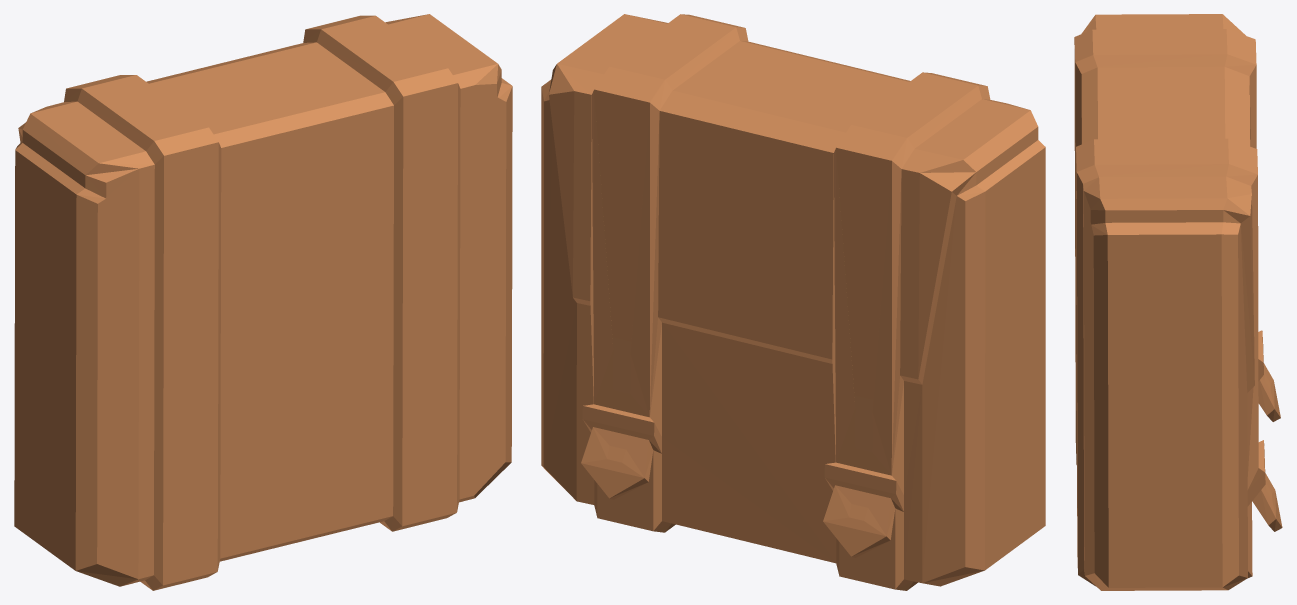
File: SM_Item_Bag_Attachment_02.glb
3 renders of one model, left to right at view 1: azimuth 30°, elevation 25°; view 2: azimuth 150°, elevation 25°; view 3: azimuth 270°, elevation 25°, orthographic. The views are drawn at different scales.
Parts seen in each view (by area): view 1: SM_Item_Bag_Attachment_02_00; view 2: SM_Item_Bag_Attachment_02_00; view 3: SM_Item_Bag_Attachment_02_00.
Boxes of the visible parts, x1,y1,x2,y2 form: SM_Item_Bag_Attachment_02_00: (14,14,512,590); SM_Item_Bag_Attachment_02_00: (541,14,1045,590); SM_Item_Bag_Attachment_02_00: (1074,14,1282,590).
Size of the model in its own units: 0.2949 by 0.2889 by 0.1289.
Materials: 1 (1 with a texture image).
